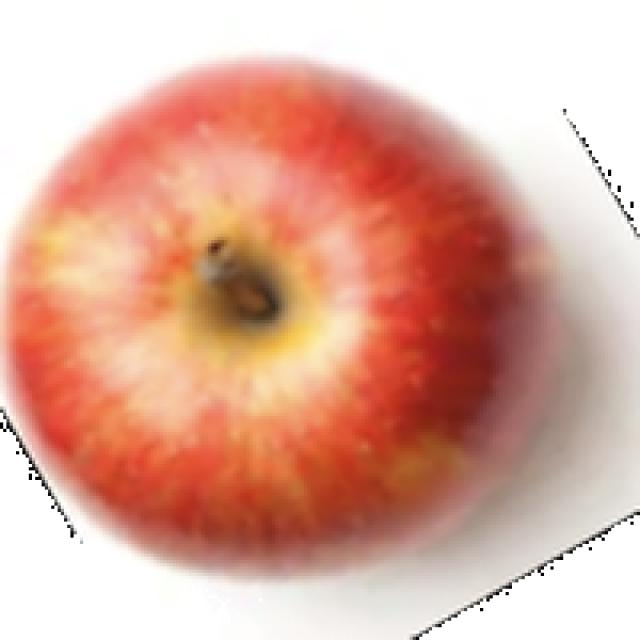apple: (0, 45, 634, 611)
